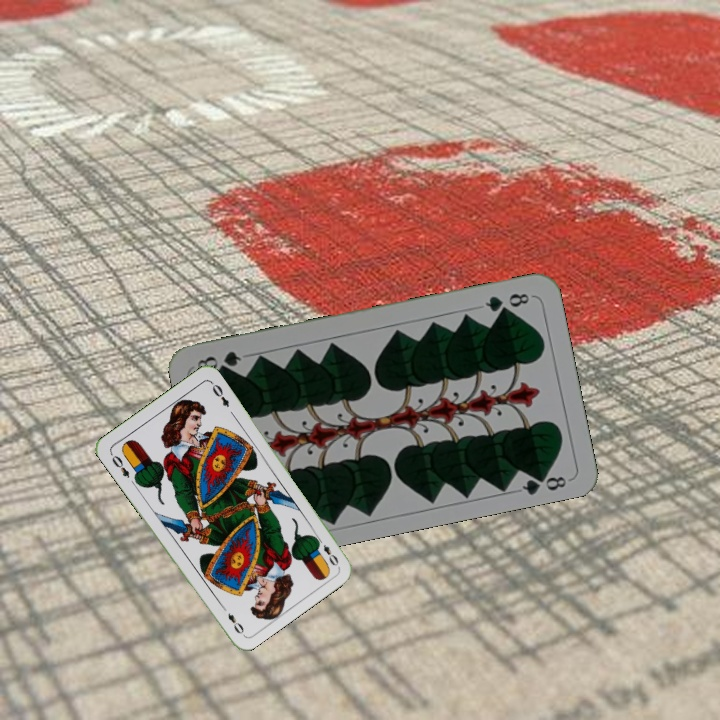EO: (312, 533, 341, 569), (106, 449, 132, 481)
G8: (481, 289, 532, 315)
